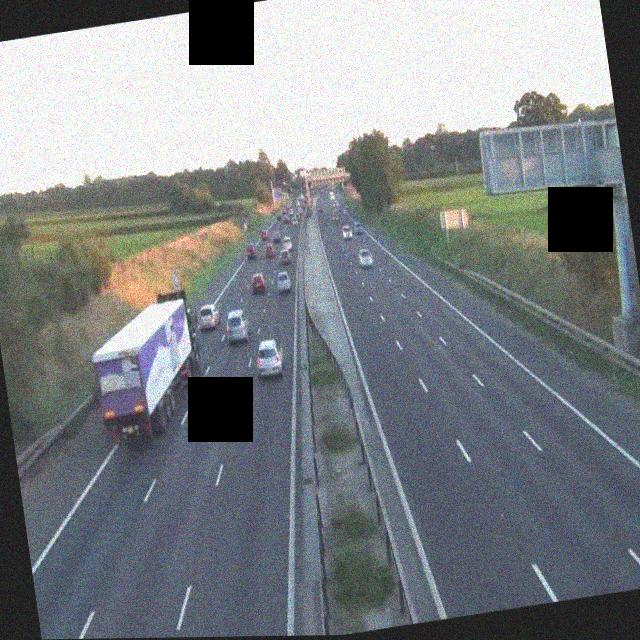car: (253, 336, 284, 379), (224, 309, 250, 345), (196, 302, 221, 332), (274, 269, 292, 293), (358, 247, 374, 270), (250, 271, 266, 293), (277, 246, 291, 264), (245, 243, 258, 259), (342, 224, 354, 241), (262, 240, 274, 257), (282, 236, 294, 252), (354, 219, 365, 233), (332, 212, 340, 223)
truck: (84, 287, 210, 445)
